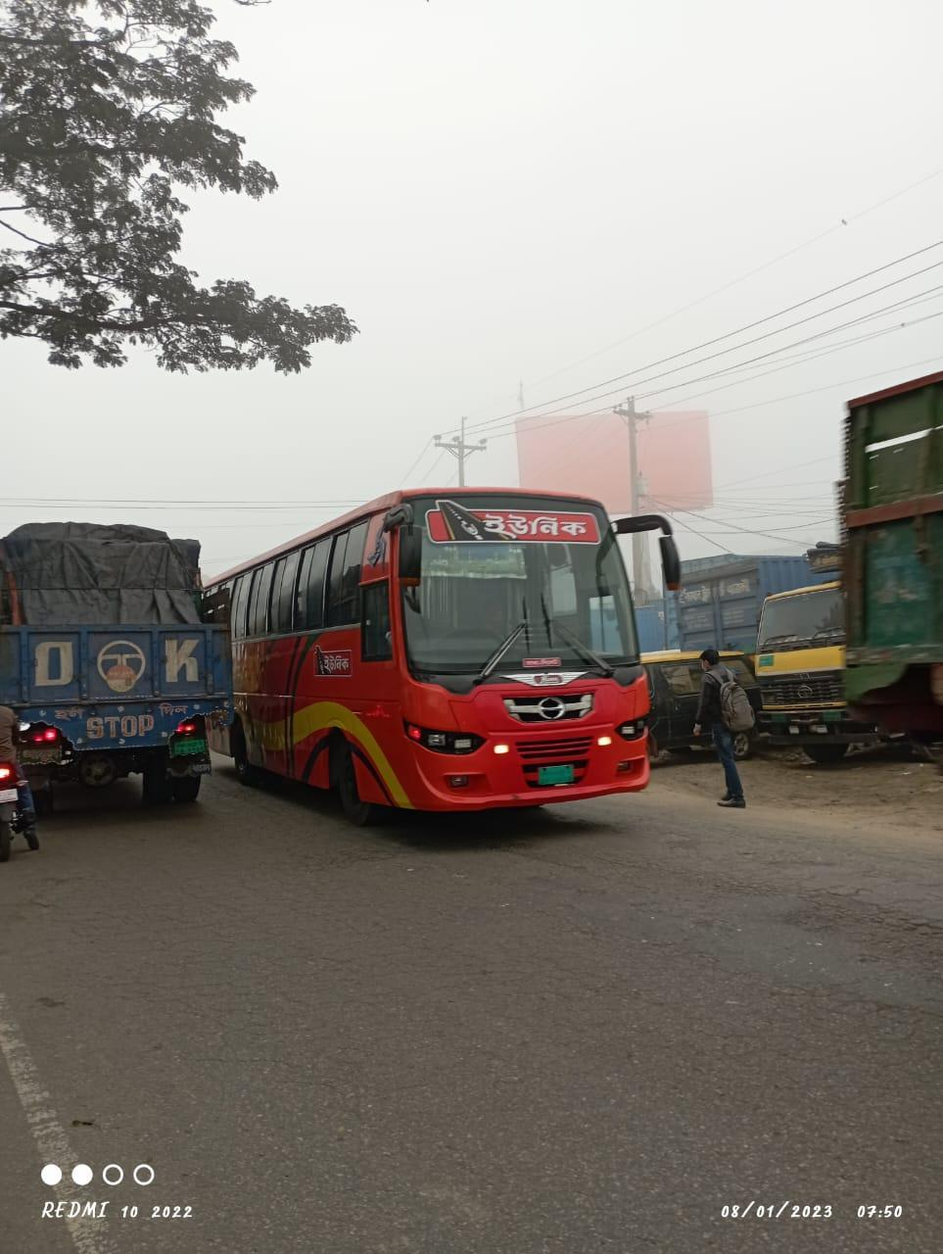Bus: (219, 483, 689, 820)
Truck: (1, 513, 224, 812), (744, 546, 877, 775)
